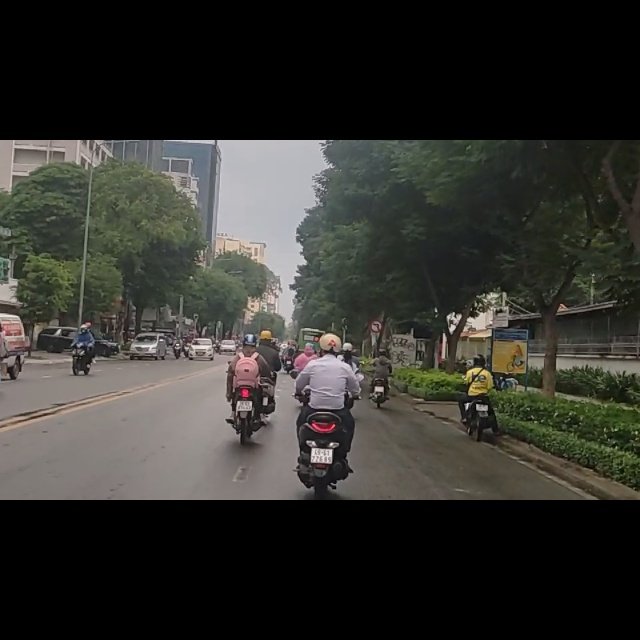Cấm rẽ trái: (370, 320, 383, 333)
